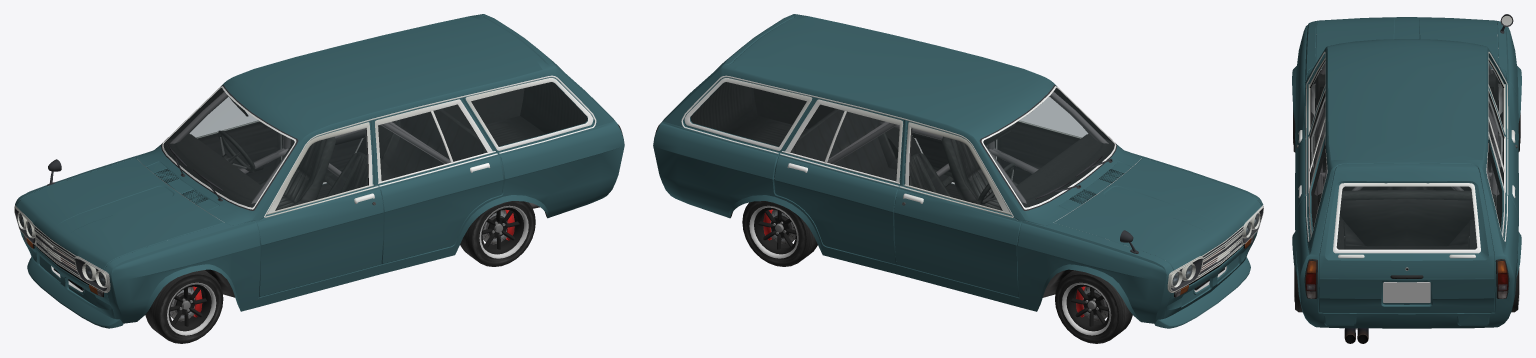
3 views of the same model, side by side, from view 1: azimuth 30°, elevation 25°; view 2: azimuth 150°, elevation 25°; view 3: azimuth 270°, elevation 25° (orthographic). The views are drawn at different scales.
Visible parts, largest first — view 1: body, door_front_left, door_rear_left, hood, fender_front_left, watanable_rs_front_left, door_front_right, watanable_rs_rear_left, trunk_door, bumper_front, door_rear_right; view 2: body, door_front_right, door_rear_right, hood, fender_front_right, door_front_left, watanable_rs_front_left001, watanable_rs_rear_left001, trunk_door, bumper_front, door_rear_left; view 3: body, trunk_door, hood, door_rear_right, door_rear_left, door_front_right, door_front_left, fender_front_left, fender_front_right, backlights, watanable_rs_rear_left, watanable_rs_rear_left001.
Boxes of the visible parts, left/top/right/bottom form: body: left=14, top=14, right=624, bottom=318; door_front_left: left=256, top=120, right=383, bottom=297; door_rear_left: left=374, top=98, right=503, bottom=264; hood: left=16, top=158, right=224, bottom=269; fender_front_left: left=104, top=220, right=260, bottom=323; watanable_rs_front_left: left=145, top=270, right=223, bottom=343; door_front_right: left=189, top=97, right=280, bottom=183; watanable_rs_rear_left: left=460, top=201, right=535, bottom=266; trunk_door: left=483, top=15, right=609, bottom=133; bumper_front: left=27, top=257, right=123, bottom=328; door_rear_right: left=290, top=129, right=365, bottom=182; body: left=653, top=14, right=1263, bottom=318; door_front_right: left=894, top=121, right=1021, bottom=297; door_rear_right: left=774, top=98, right=903, bottom=264; hood: left=1054, top=158, right=1261, bottom=269; fender_front_right: left=1017, top=221, right=1173, bottom=323; door_front_left: left=997, top=97, right=1089, bottom=184; watanable_rs_front_left001: left=1055, top=270, right=1132, bottom=343; watanable_rs_rear_left001: left=742, top=201, right=817, bottom=266; trunk_door: left=673, top=15, right=794, bottom=133; bumper_front: left=1154, top=257, right=1250, bottom=328; door_rear_left: left=912, top=132, right=987, bottom=182; body: left=1292, top=34, right=1521, bottom=343; trunk_door: left=1319, top=163, right=1494, bottom=313; hood: left=1315, top=17, right=1498, bottom=64; door_rear_right: left=1488, top=89, right=1518, bottom=217; door_rear_left: left=1295, top=89, right=1325, bottom=217; door_front_right: left=1488, top=57, right=1518, bottom=167; door_front_left: left=1295, top=57, right=1325, bottom=167; fender_front_left: left=1292, top=21, right=1316, bottom=122; fender_front_right: left=1497, top=21, right=1521, bottom=122; backlights: left=1304, top=259, right=1509, bottom=298; watanable_rs_rear_left: left=1294, top=267, right=1302, bottom=312; watanable_rs_rear_left001: left=1511, top=268, right=1519, bottom=312.
Size of the model in its own units: 159 by 50.55 by 58.12.
